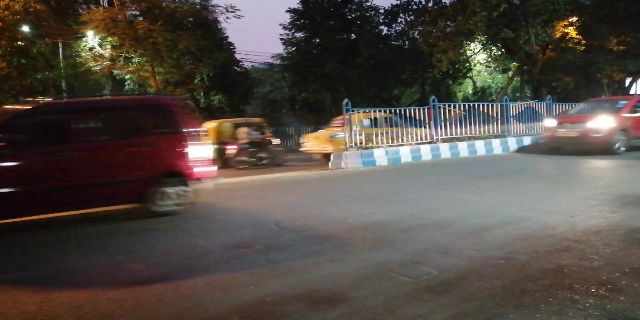Autorickshaw: (216, 115, 285, 163)
Car: (13, 98, 208, 208), (543, 93, 637, 155)
